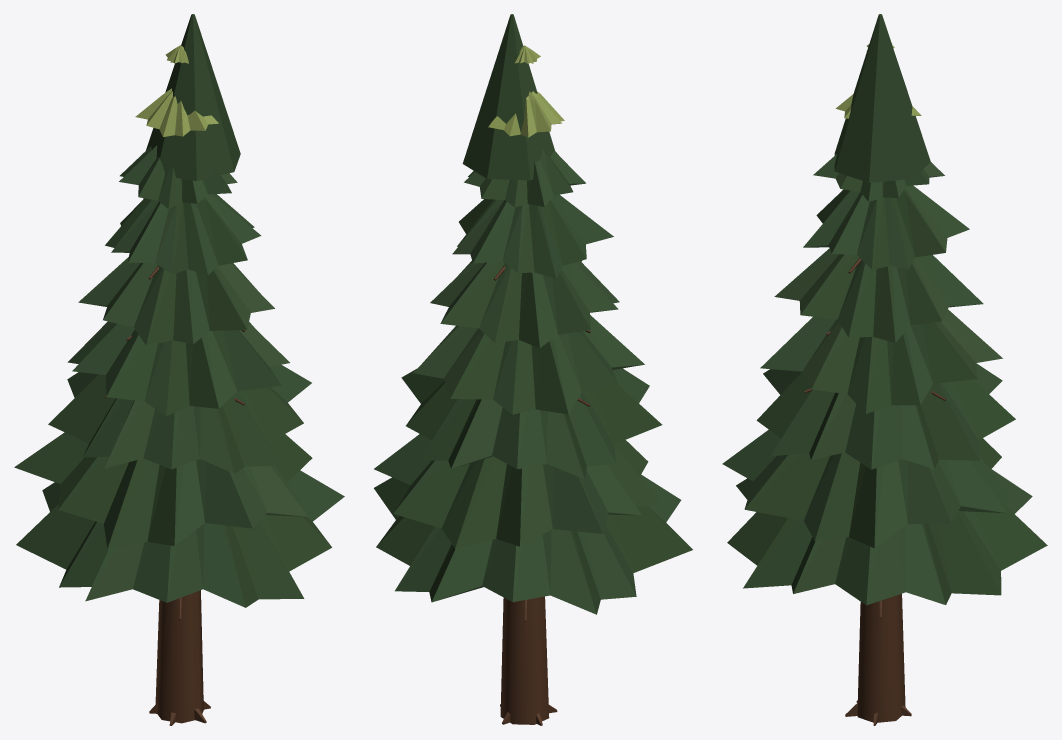
The model's file is tree_pine_tall_a.glb.
3 views of the same model, side by side, from view 1: azimuth 30°, elevation 25°; view 2: azimuth 150°, elevation 25°; view 3: azimuth 270°, elevation 25° (orthographic).
Parts seen in each view (by area): view 1: pine_spire, pine_branch_00_0, pine_tier_07; view 2: pine_spire, pine_branch_00_0, pine_tier_07; view 3: pine_spire, pine_branch_00_0.
Part boxes in pixels (bbox=[...]): pine_spire: bbox=[14, 14, 344, 607]; pine_branch_00_0: bbox=[104, 266, 245, 725]; pine_tier_07: bbox=[135, 45, 218, 136]; pine_spire: bbox=[374, 14, 692, 614]; pine_branch_00_0: bbox=[493, 260, 590, 725]; pine_tier_07: bbox=[488, 45, 564, 137]; pine_spire: bbox=[722, 14, 1047, 605]; pine_branch_00_0: bbox=[804, 257, 945, 725].
Bounding box in the file's own units: 3.75 × 8.6 × 3.6.
